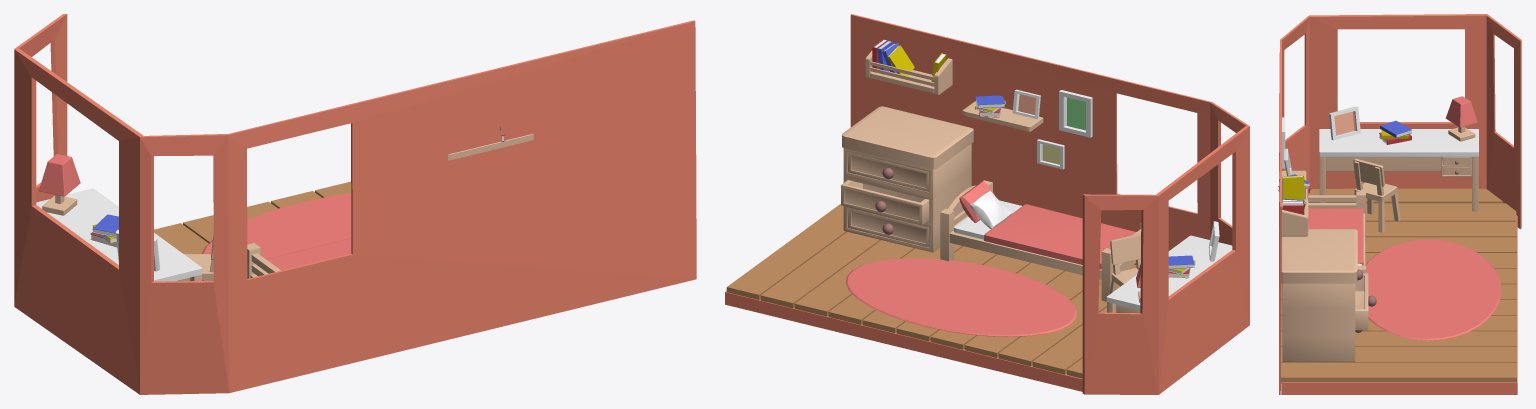
Rendered from дом моряка внутри.fbx.
3 views of the same model, side by side, from view 1: azimuth 30°, elevation 25°; view 2: azimuth 150°, elevation 25°; view 3: azimuth 270°, elevation 25° (orthographic). The views are drawn at different scales.
Parts seen in each view (by area): view 1: Plane, Carpet 1, Table 1, Wood floor 1.001, Bed 1, Lamp 1, Book stack 1.002, Wall shelf.001; view 2: Plane, Wood floor 1.001, Bedside table 1, Carpet 1, Bed 1, Floor, Table 1, Wall bookshelf.001, Picture 1.001, Chair 1, Book stack 2.001, Wall shelf.001 (+4 smaller); view 3: Plane, Wood floor 1.001, Carpet 1, Bedside table 1, Table 1, Wood floor 1, Floor, Bed 1, Chair 1, Lamp 1, Wall bookshelf.001, Picture 3.002 (+3 smaller).
Part boxes in pixels (x1,y1,x2,y2): Plane: (14,14,696,394); Carpet 1: (201,193,351,258); Table 1: (36,188,202,281); Wood floor 1.001: (154,181,351,281); Bed 1: (247,238,351,278); Lamp 1: (39,154,80,215); Book stack 1.002: (90,214,118,247); Wall shelf.001: (447,134,533,160); Plane: (850,14,1249,394); Wood floor 1.001: (726,204,1136,374); Bedside table 1: (841,106,973,252); Carpet 1: (845,258,1076,336); Bed 1: (940,180,1141,301); Floor: (725,291,1082,391); Table 1: (1106,235,1232,313); Wall bookshelf.001: (865,41,952,95); Picture 1.001: (1059,90,1092,137); Chair 1: (1110,234,1140,293); Book stack 2.001: (872,39,914,75); Wall shelf.001: (962,101,1043,131); Plane: (1279,14,1521,394); Wood floor 1.001: (1281,221,1516,383); Carpet 1: (1365,239,1501,340); Bedside table 1: (1281,229,1376,361); Table 1: (1319,129,1478,211); Wood floor 1: (1308,188,1516,221); Floor: (1281,215,1517,394); Bed 1: (1308,191,1365,273); Chair 1: (1353,158,1400,232); Lamp 1: (1445,96,1477,141); Wall bookshelf.001: (1281,178,1308,236); Picture 3.002: (1329,106,1360,140).
Bounding box in the file's own units: 1399 × 637 × 746.
